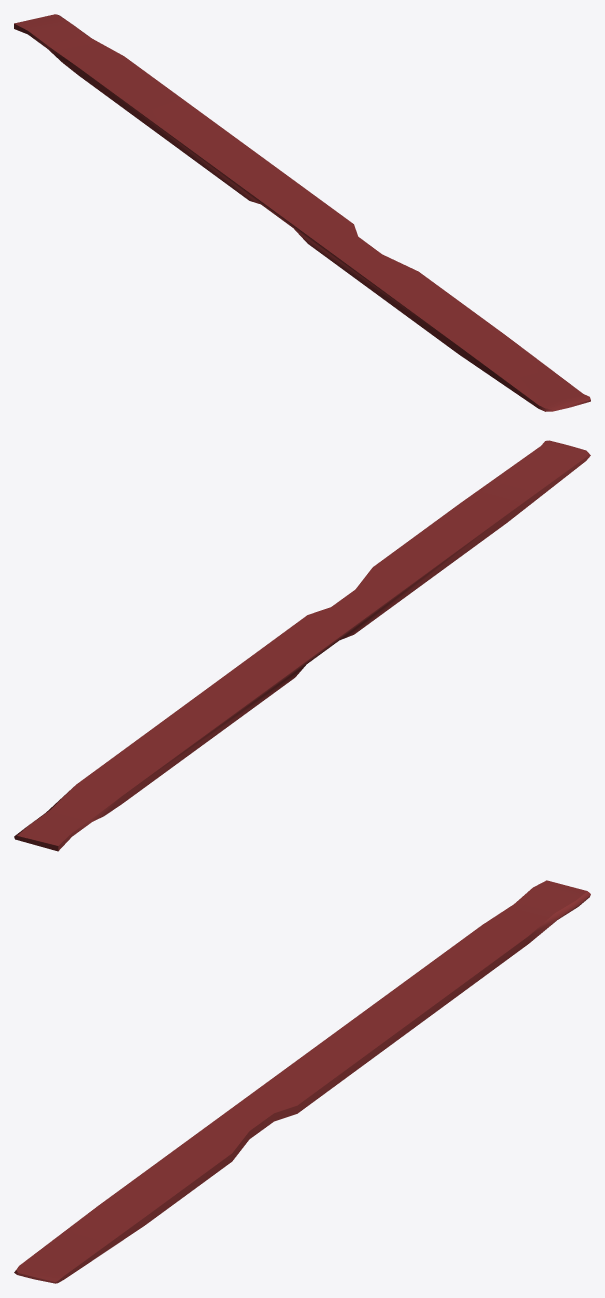
File: SM_WoodPlank01.fbx
The picture shows the model from 3 angles, top to bottom: view 1: azimuth 30°, elevation 25°; view 2: azimuth 150°, elevation 25°; view 3: azimuth 330°, elevation 25°; orthographic projection.
Visible parts, largest first — view 1: WoodPlank01; view 2: WoodPlank01; view 3: WoodPlank01.
Part boxes in pixels (left/top/right/bottom): WoodPlank01: left=14, top=14, right=590, bottom=411; WoodPlank01: left=14, top=440, right=590, bottom=851; WoodPlank01: left=14, top=880, right=590, bottom=1283.
Size of the model in its own units: 15.1 by 2.57 by 300.
